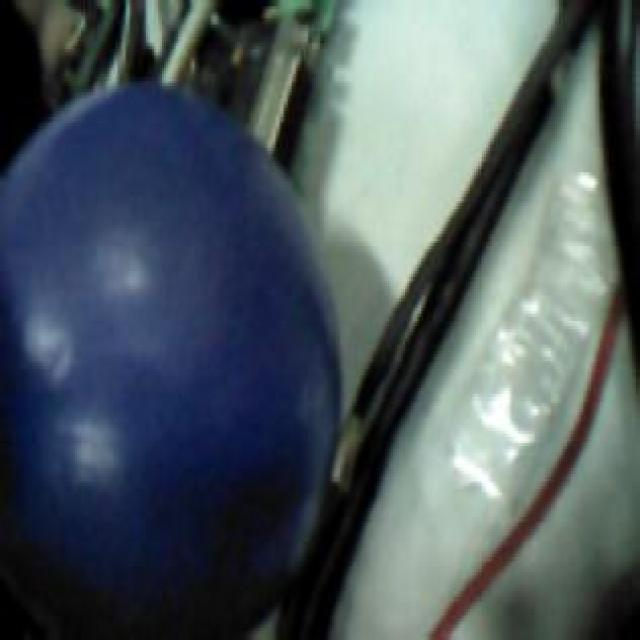BallPurple: (2, 79, 342, 629)
